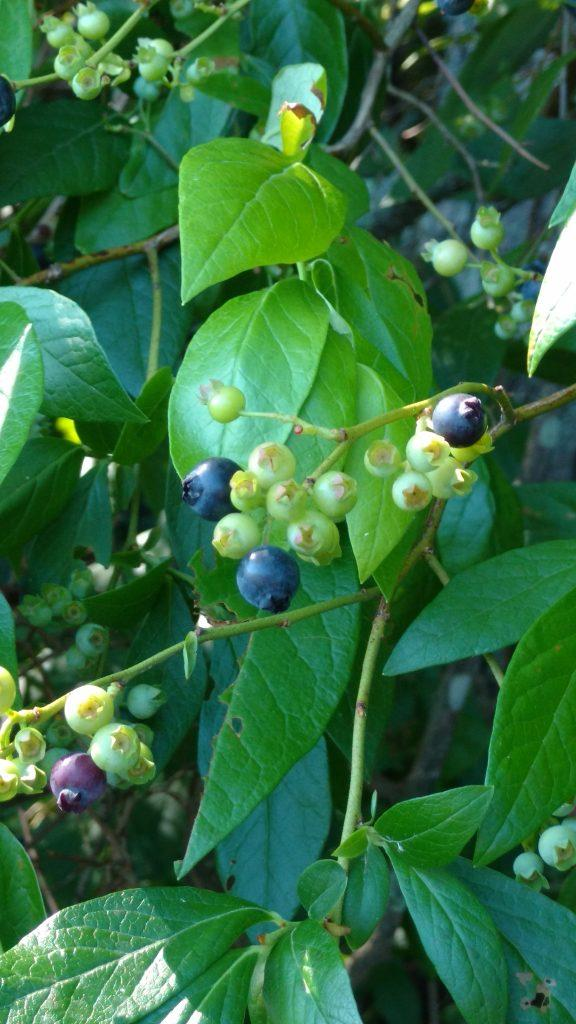Blueberry leaf: (1, 884, 298, 1017), (168, 256, 329, 493), (186, 115, 350, 301), (1, 279, 154, 456), (462, 582, 576, 813), (392, 539, 567, 686)
